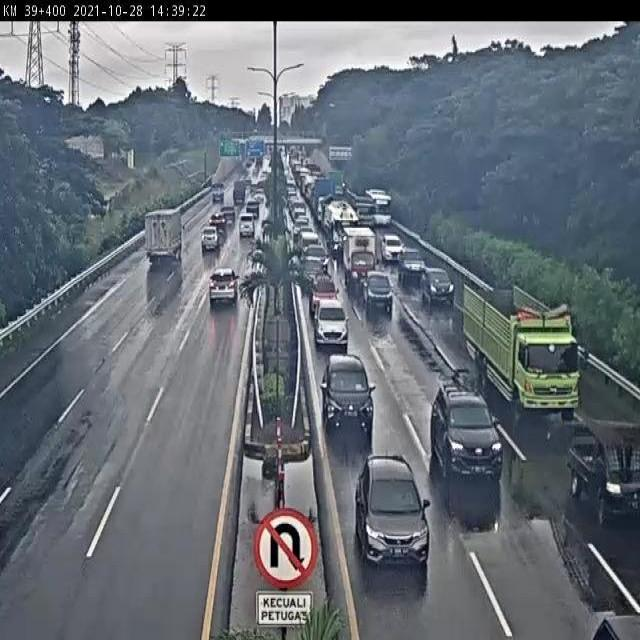car: (354, 453, 428, 564), (430, 385, 503, 480), (317, 355, 374, 432), (315, 300, 349, 347), (421, 265, 455, 303), (309, 274, 339, 314), (363, 272, 393, 309), (207, 269, 238, 304), (397, 249, 425, 280), (302, 244, 329, 271), (302, 257, 324, 288), (202, 225, 219, 251)
mid truck: (460, 285, 584, 419), (144, 210, 183, 262)
small truck: (566, 419, 640, 525), (344, 225, 378, 284)
